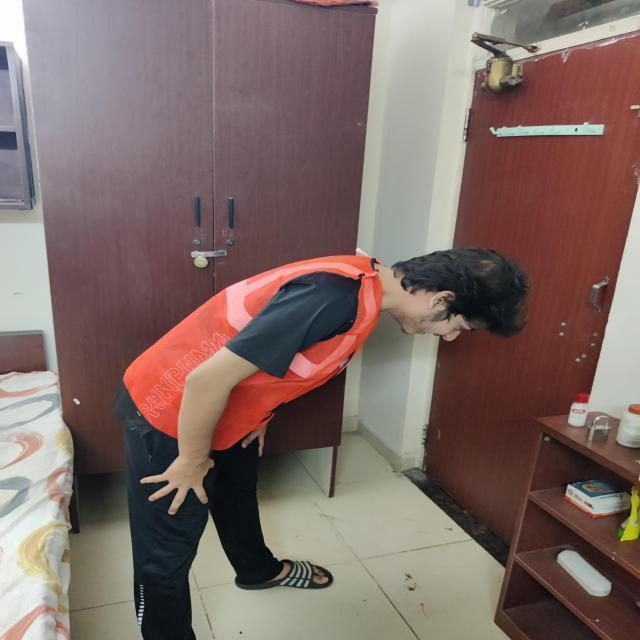no-helmet: (440, 247, 538, 346)
vest: (120, 255, 382, 454)
